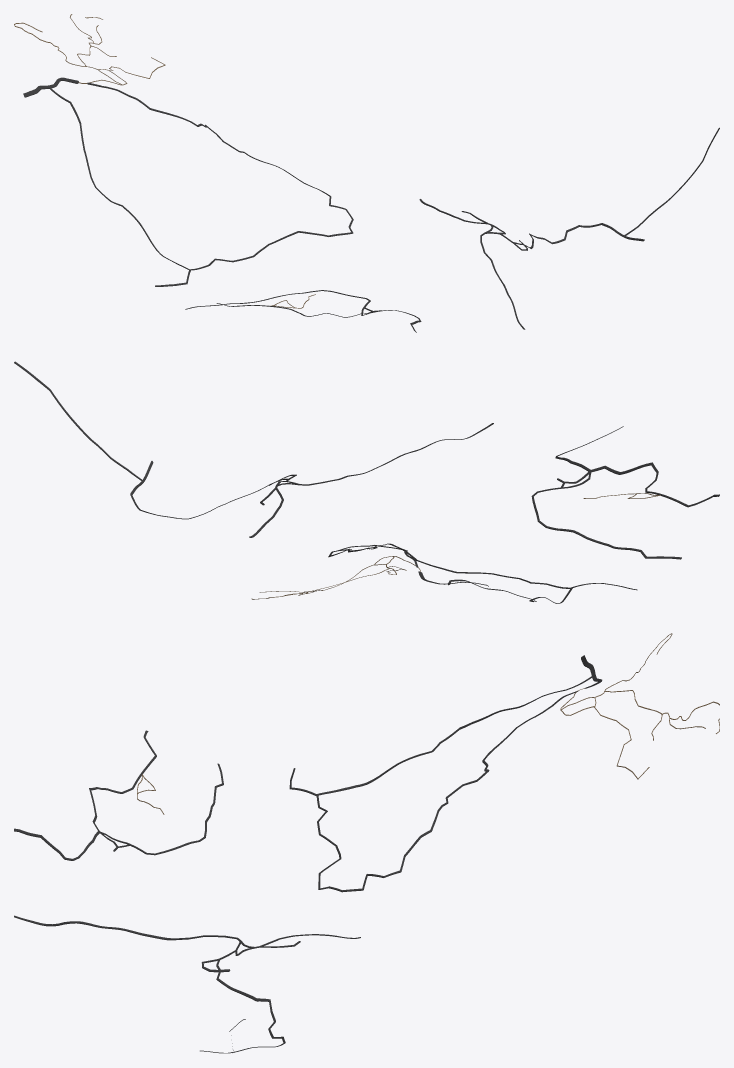
The picture shows the model from 3 angles, top to bottom: view 1: azimuth 30°, elevation 25°; view 2: azimuth 150°, elevation 25°; view 3: azimuth 270°, elevation 25°; orthographic projection. The views are drawn at different scales.
Bounding box in the file's own units: 1173 × 366 × 1167.
